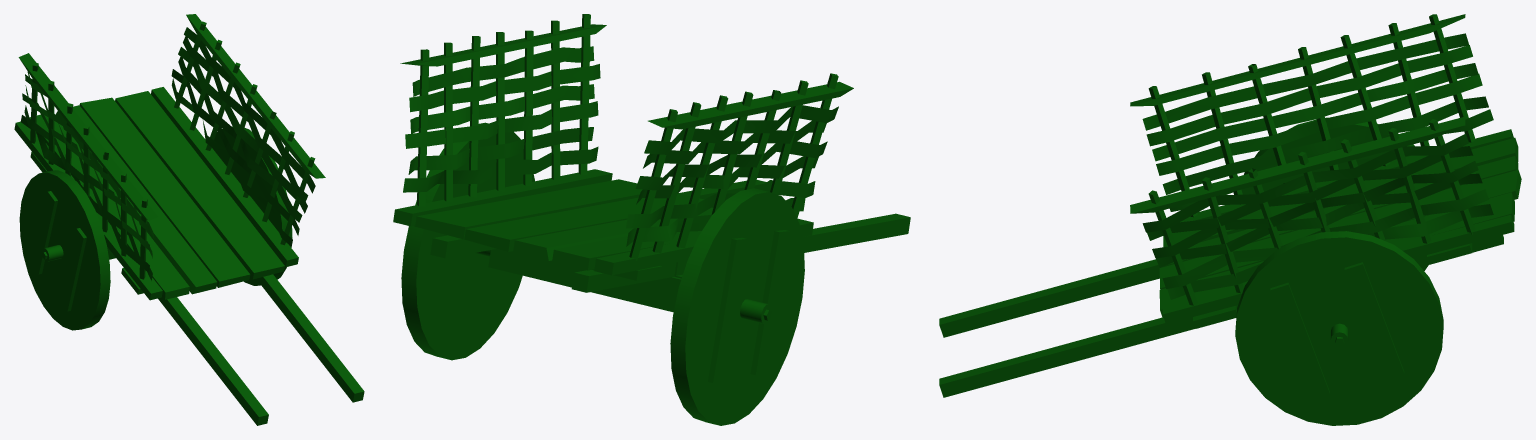
File: cartload3.FBX
The picture shows the model from 3 angles, left to right: view 1: azimuth 30°, elevation 25°; view 2: azimuth 150°, elevation 25°; view 3: azimuth 270°, elevation 25°; orthographic projection. The views are drawn at different scales.
Parts seen in each view (by area): view 1: SM_cartload03_0; view 2: SM_cartload03_0; view 3: SM_cartload03_0.
Boxes of the visible parts, <box> form: SM_cartload03_0: <box>14,14,364,425</box>; SM_cartload03_0: <box>393,14,910,425</box>; SM_cartload03_0: <box>939,14,1521,425</box>.
Size of the model in its own units: 112 by 195 by 111.
